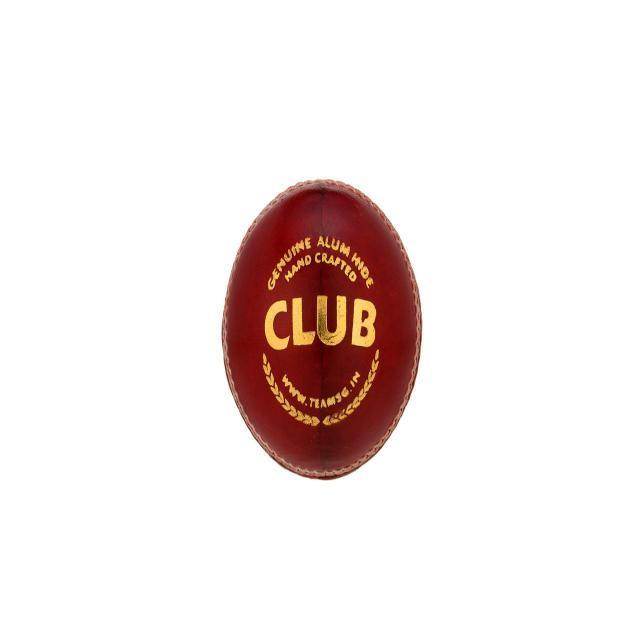cricket ball: (222, 179, 423, 481)
